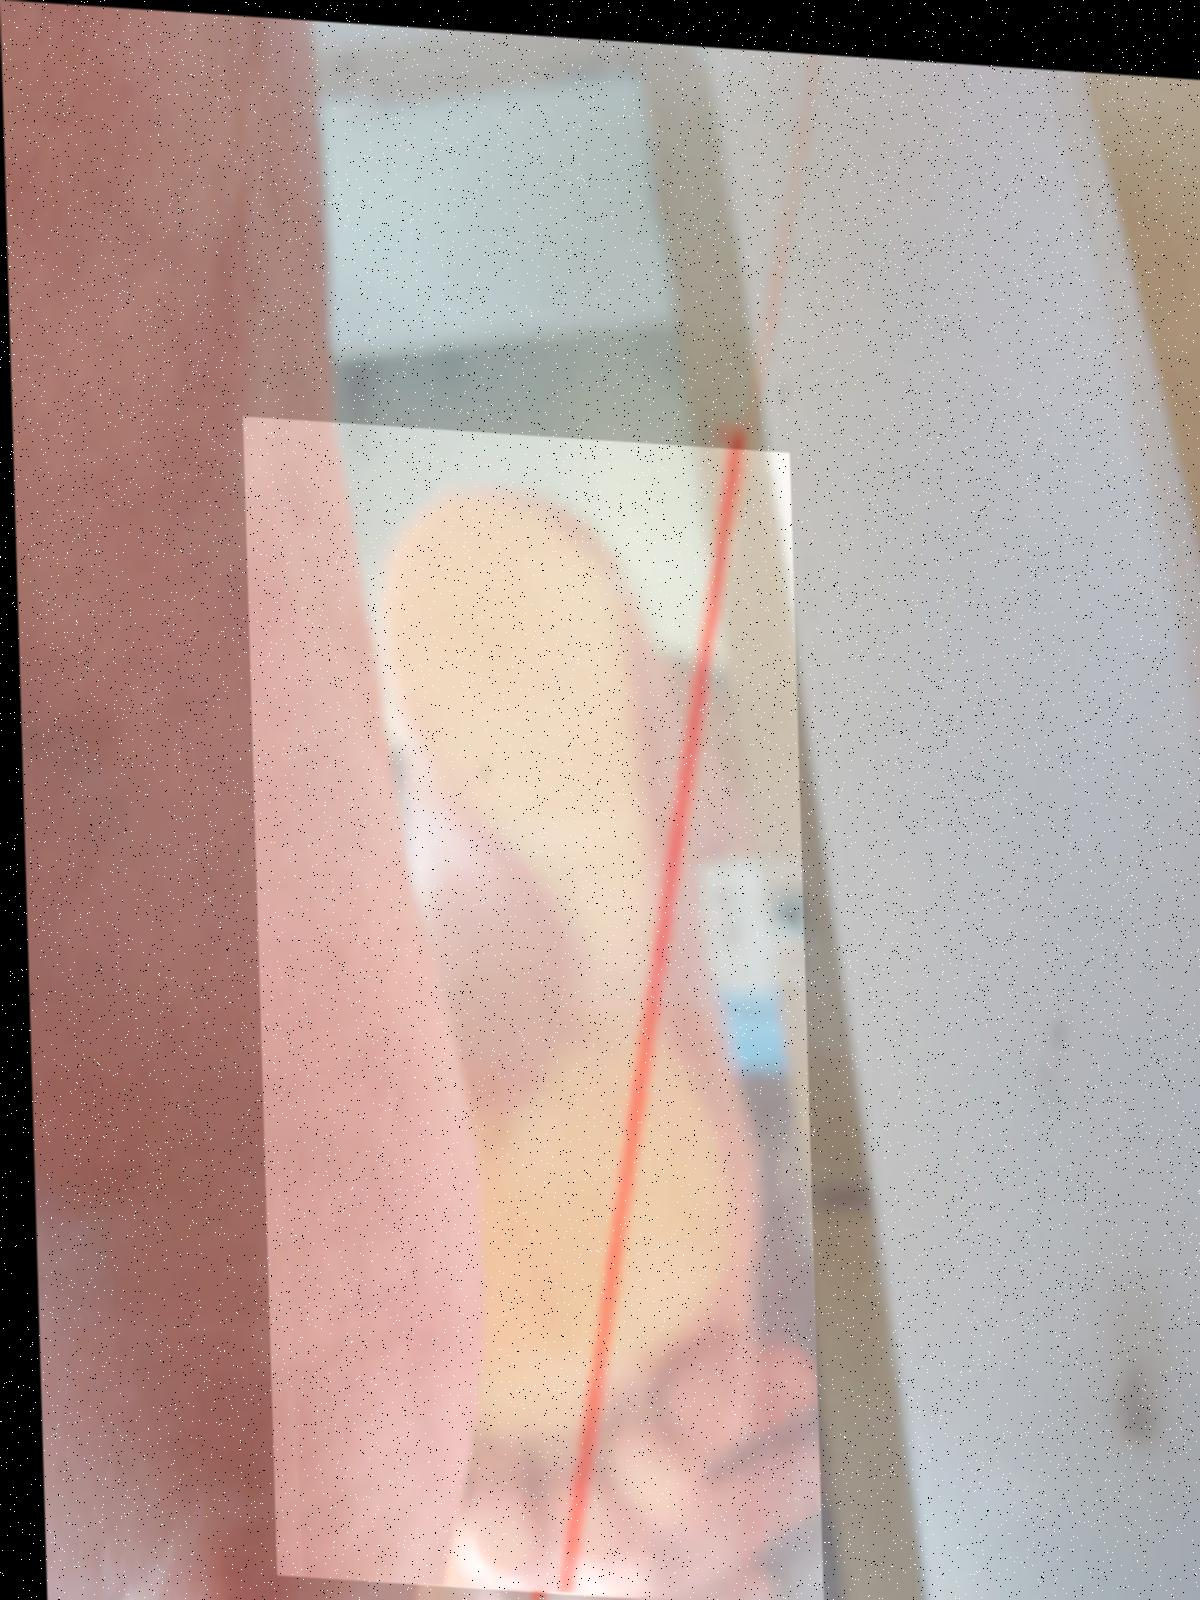Present: (241, 413, 814, 1600)
